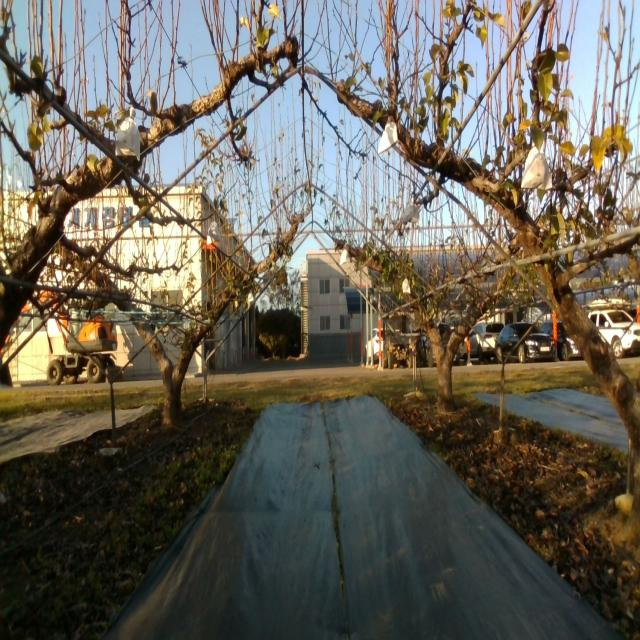pearbags: (520, 146, 553, 192), (115, 107, 141, 163), (378, 121, 398, 155), (402, 196, 421, 230), (206, 221, 223, 246)
